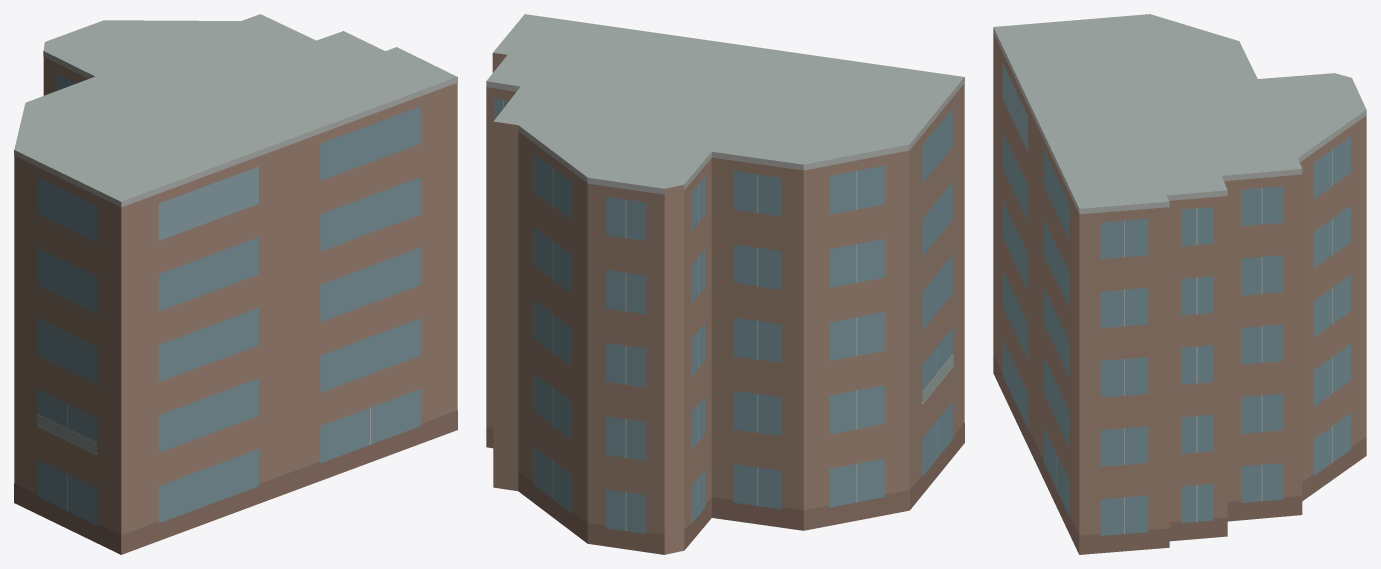
Rendered from survey-upis-32928427.glb.
The picture shows the model from 3 angles, left to right: view 1: azimuth 30°, elevation 25°; view 2: azimuth 150°, elevation 25°; view 3: azimuth 270°, elevation 25°; orthographic projection. The views are drawn at different scales.
Visible parts, largest first — view 1: survey-upis-32928427.tmp; view 2: survey-upis-32928427.tmp; view 3: survey-upis-32928427.tmp.
Part boxes in pixels (left/top/right/bottom): survey-upis-32928427.tmp: left=14, top=14, right=457, bottom=554; survey-upis-32928427.tmp: left=486, top=14, right=964, bottom=554; survey-upis-32928427.tmp: left=993, top=14, right=1366, bottom=554.
Bounding box in the file's own units: 18.43 × 15.25 × 14.92.
